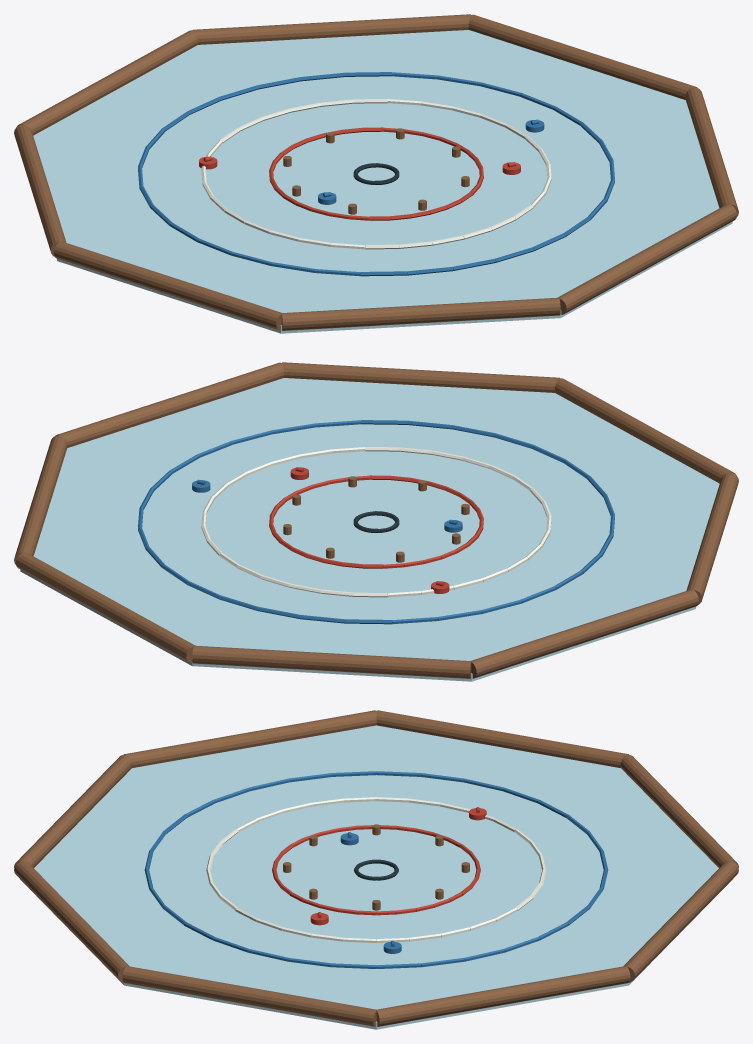
The model's file is scendance-plan-crokicurl.glb.
3 renders of one model, top to bottom at view 1: azimuth 30°, elevation 25°; view 2: azimuth 150°, elevation 25°; view 3: azimuth 270°, elevation 25°, orthographic. The views are drawn at different scales.
Size of the model in its own units: 8.94 by 0.247 by 8.94.
